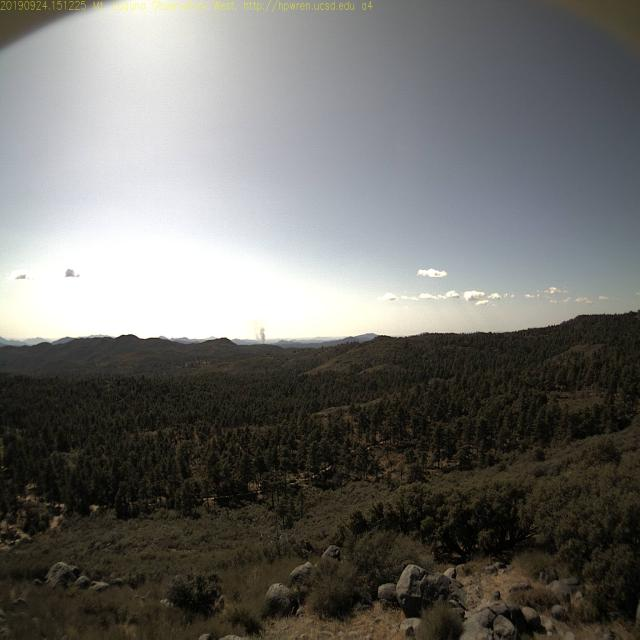smoke: (250, 318, 270, 349)
